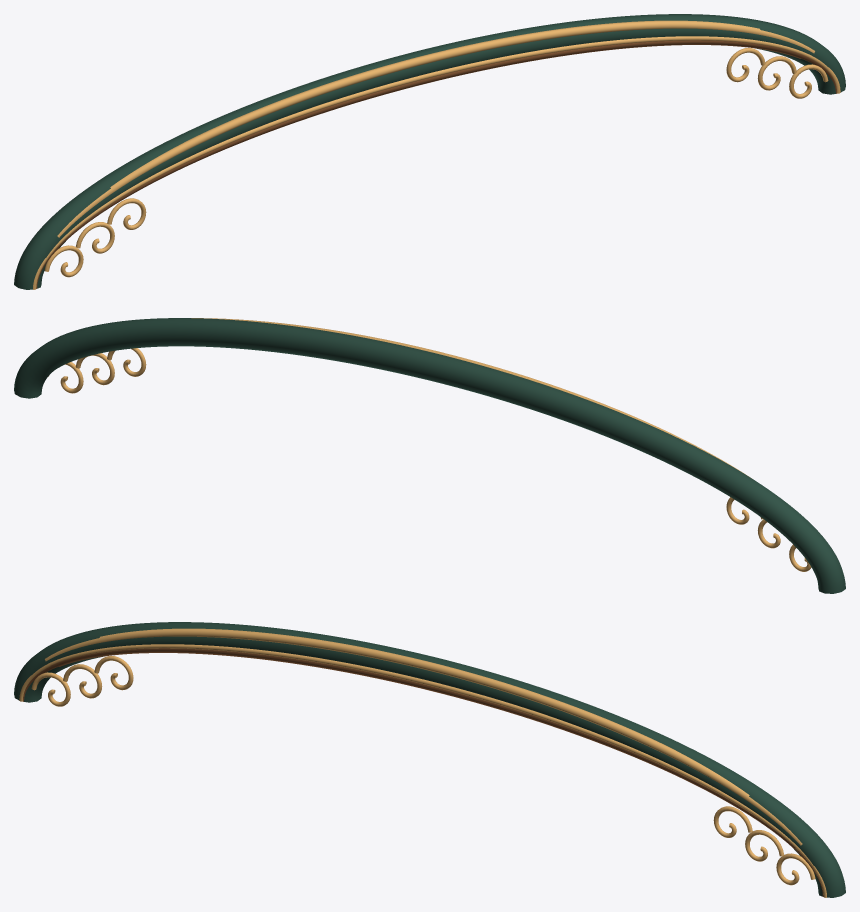
Rendered from arcade-crown.glb.
The picture shows the model from 3 angles, top to bottom: view 1: azimuth 30°, elevation 25°; view 2: azimuth 150°, elevation 25°; view 3: azimuth 330°, elevation 25°; orthographic projection.
Parts seen in each view (by area): view 1: Enamel crown, Outer brass bead, Inner brass bead, Bronze lower moulding; view 2: Enamel crown, Outer brass bead; view 3: Enamel crown, Outer brass bead, Inner brass bead, Bronze lower moulding.
Part boxes in pixels (x1=…): Enamel crown: x1=14, y1=14, x2=845, y2=289; Outer brass bead: x1=57, y1=20, x2=814, y2=237; Inner brass bead: x1=33, y1=36, x2=840, y2=289; Bronze lower moulding: x1=36, y1=40, x2=836, y2=288; Enamel crown: x1=14, y1=318, x2=845, y2=593; Outer brass bead: x1=191, y1=318, x2=748, y2=476; Enamel crown: x1=14, y1=622, x2=845, y2=897; Outer brass bead: x1=45, y1=628, x2=802, y2=845; Inner brass bead: x1=19, y1=644, x2=826, y2=897; Bronze lower moulding: x1=23, y1=648, x2=823, y2=896.
Bounding box in the file's own units: 9.78 × 1.55 × 0.3.
